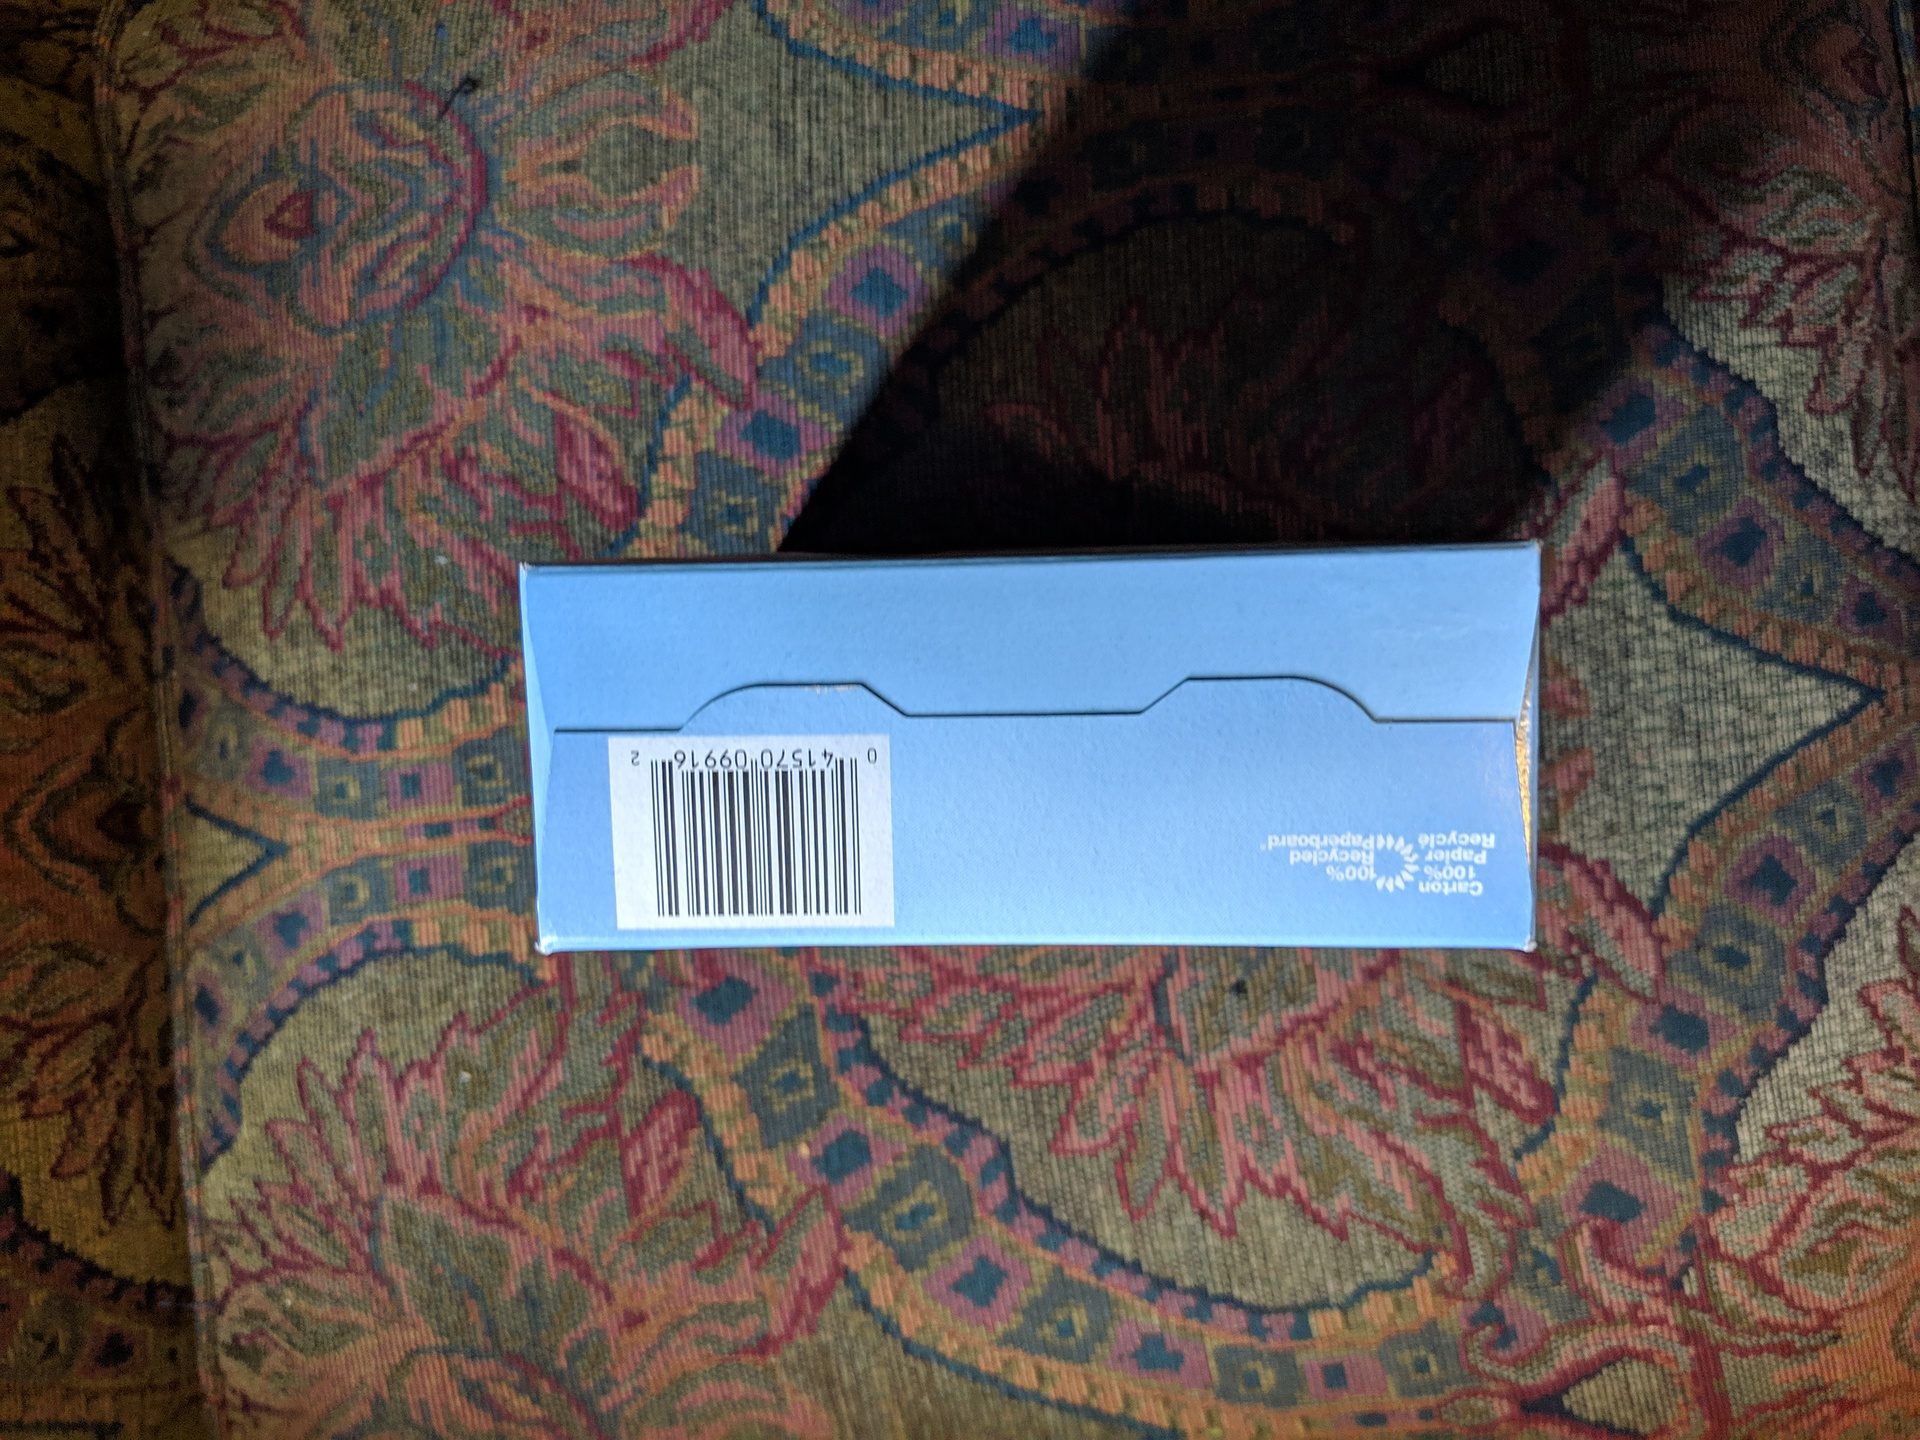blue_diamond_nut_thins_almond_seasalt: (523, 551, 1544, 957)
